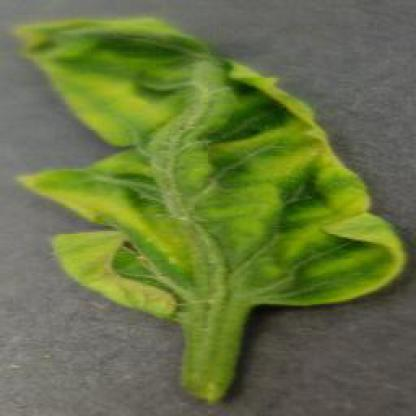bad leaf: (21, 11, 392, 309)
